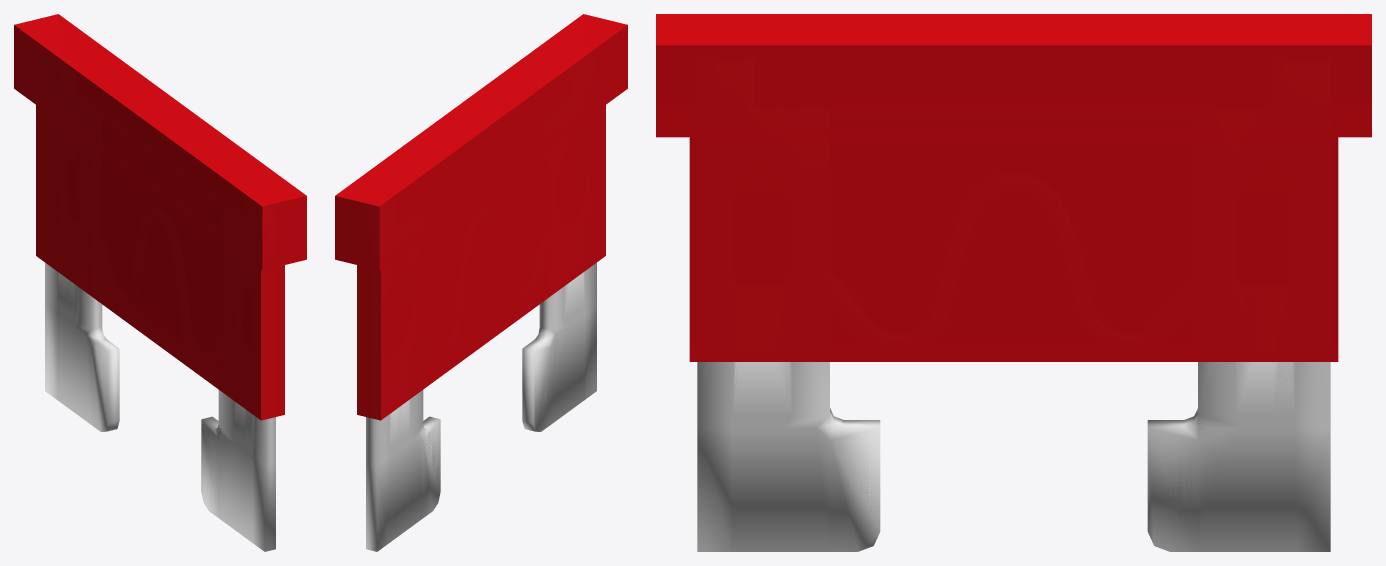
Rendered from car fuse.glb.
The picture shows the model from 3 angles, left to right: view 1: azimuth 30°, elevation 25°; view 2: azimuth 150°, elevation 25°; view 3: azimuth 270°, elevation 25°; orthographic projection. The views are drawn at different scales.
Parts seen in each view (by area): view 1: Cube, Cube.001; view 2: Cube, Cube.001; view 3: Cube, Cube.001.
Boxes of the visible parts, x1,y1,x2,y2 form: Cube: (14,14,306,420); Cube.001: (45,262,275,551); Cube: (335,14,627,420); Cube.001: (366,262,596,551); Cube: (656,14,1371,361); Cube.001: (697,362,1330,551).
Size of the model in its own units: 0.2134 by 1.65 by 2.07.
